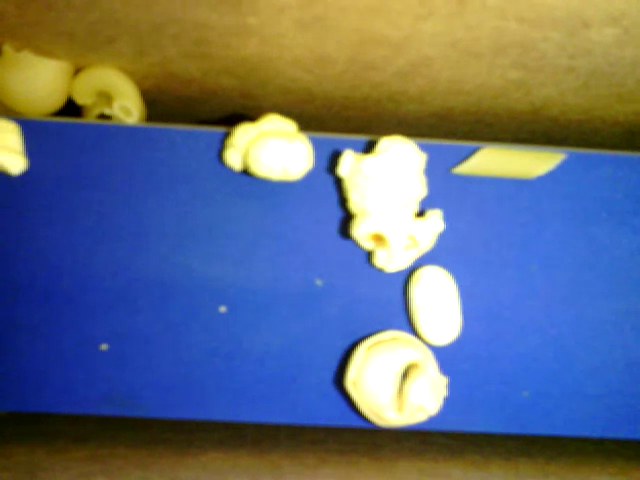elbow: (72, 66, 142, 122)
penne: (450, 145, 567, 181)
shell: (1, 44, 74, 116), (83, 93, 120, 121)
tortellini: (346, 329, 447, 426)
